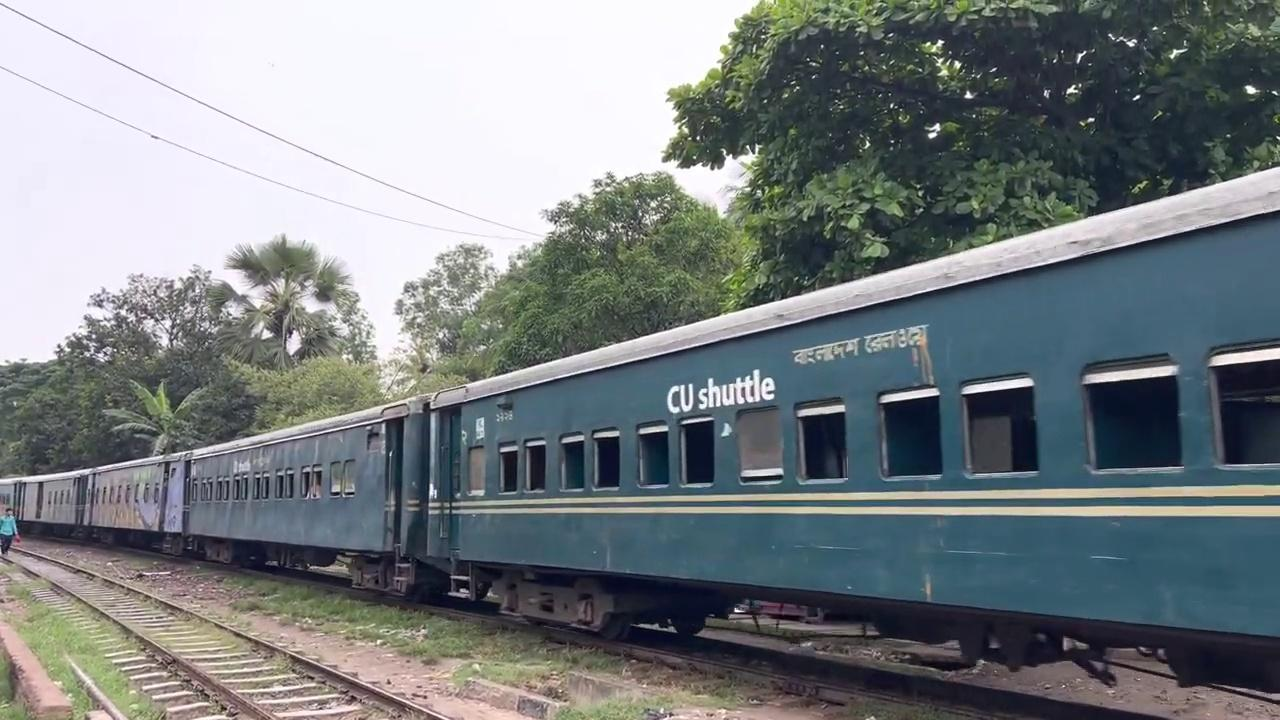Fence: (0, 505, 18, 555)
Motorcycle: (5, 540, 452, 718)
Potted-plant: (1, 164, 1278, 686)
Railroad-crossing: (459, 168, 751, 377), (204, 232, 360, 371), (391, 240, 500, 388)
